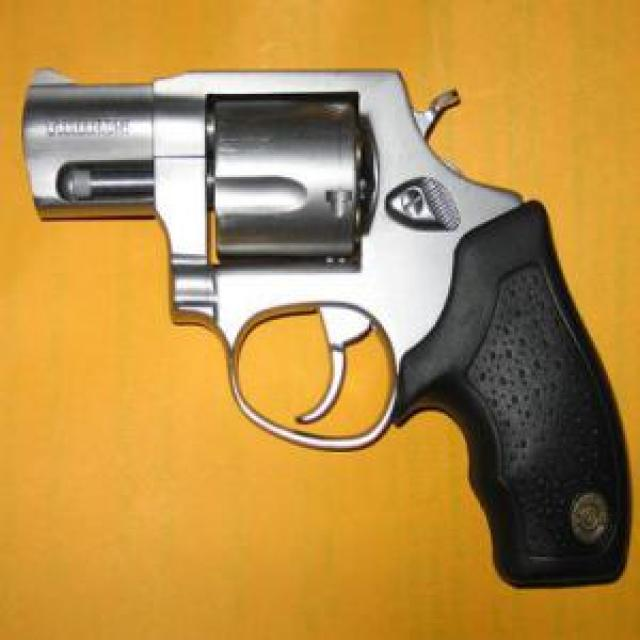pistol: (22, 66, 632, 588)
